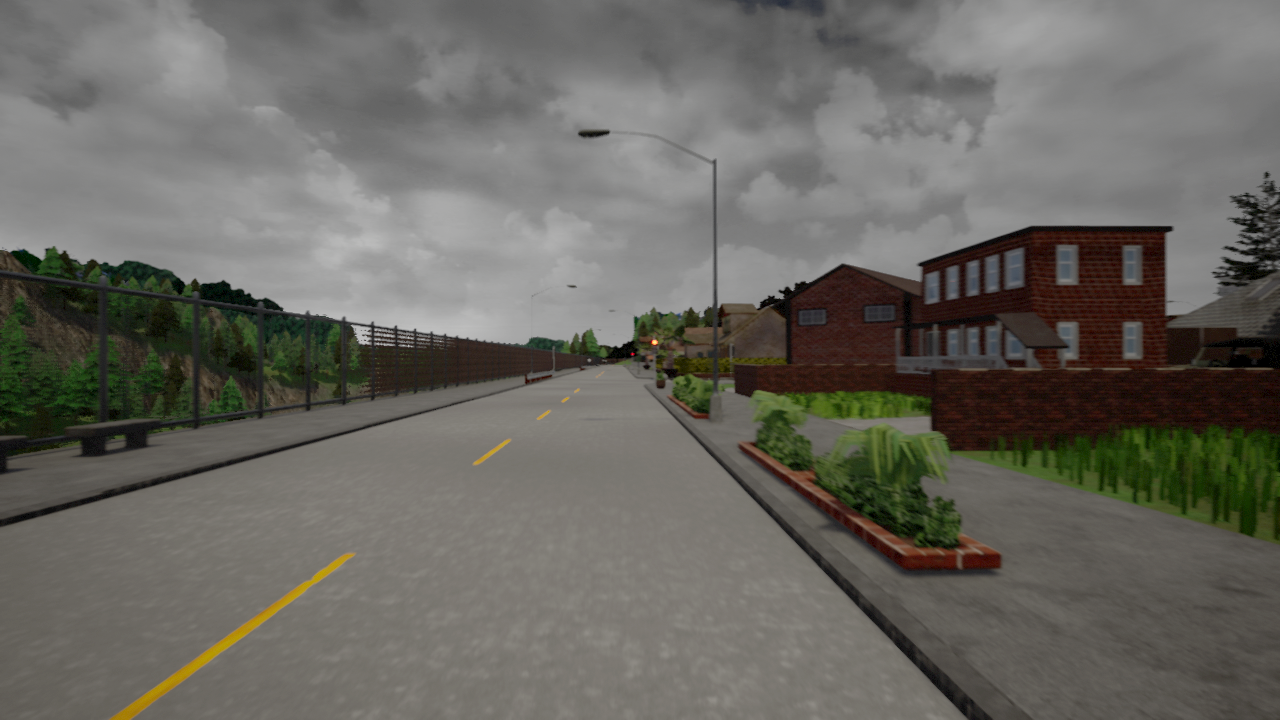red: (651, 338, 658, 354)
